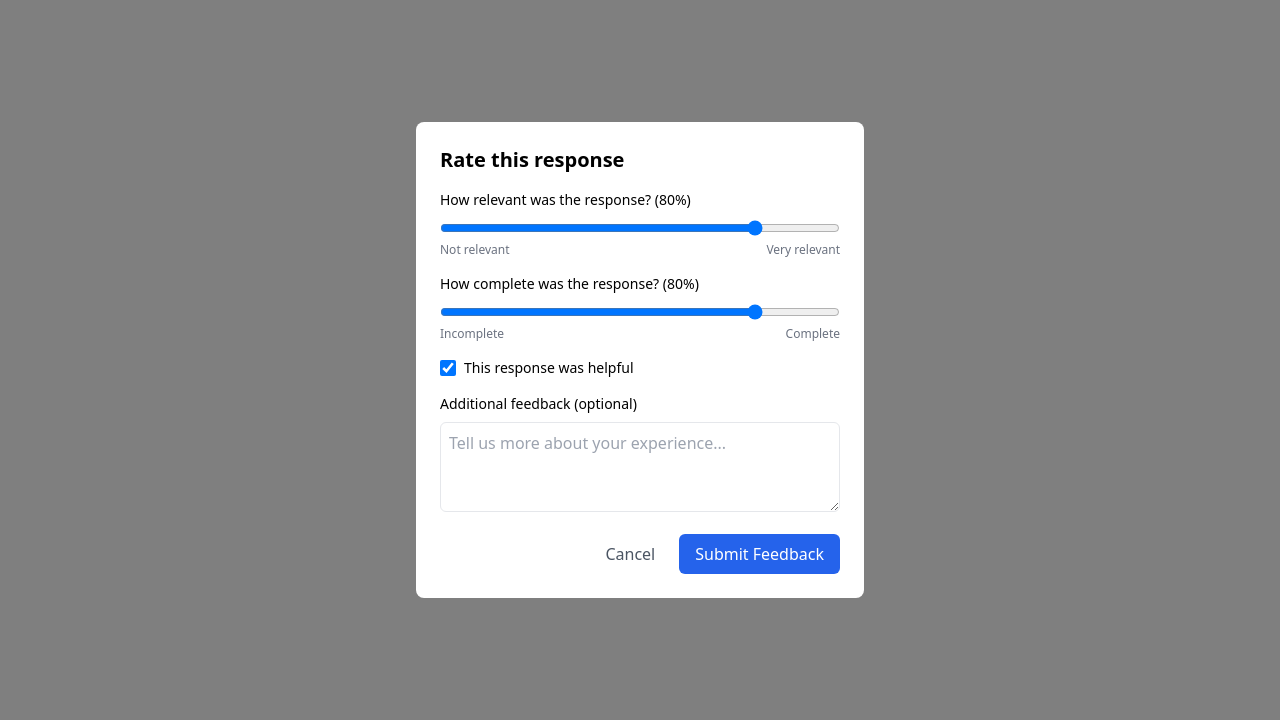
Scenario: FeedbackModal › updates relevance score on slider change
Set the slider below "How relevant was the response? (" to "0.5" at [640, 228], box [440, 220, 840, 236]
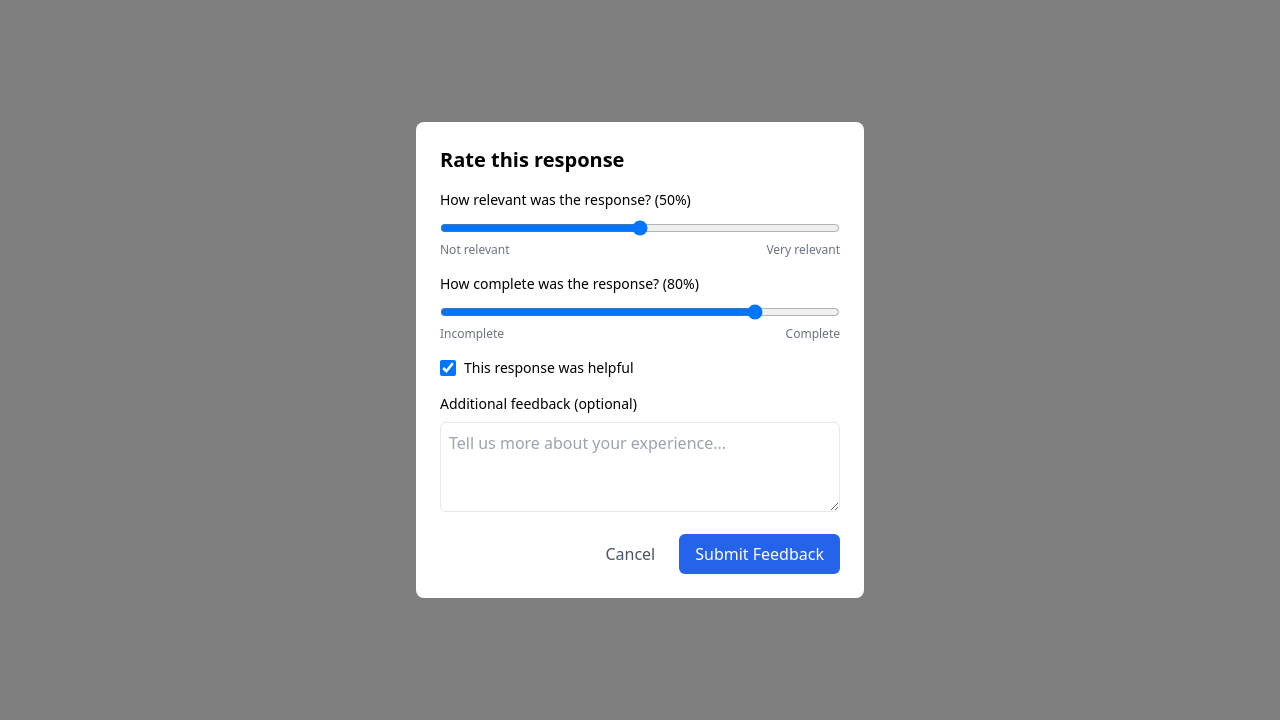
Expected: the text "How relevant was the response? (50%)" is shown, [440, 190, 691, 209]
